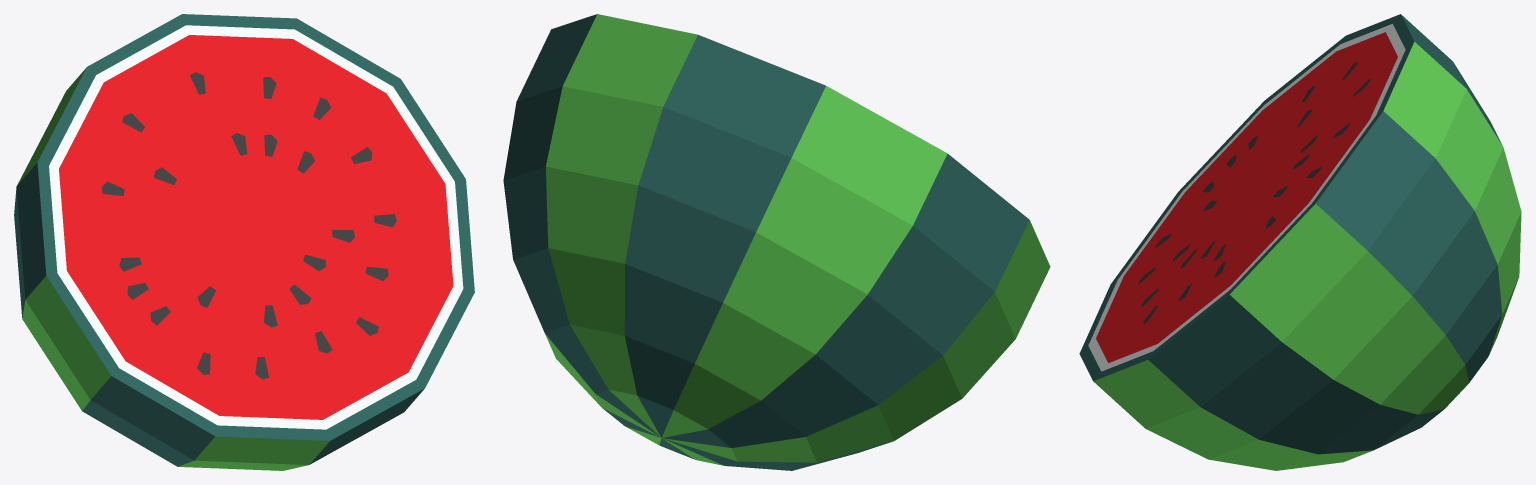
The model's file is watermelon-half.fbx.
3 views of the same model, side by side, from view 1: azimuth 30°, elevation 25°; view 2: azimuth 150°, elevation 25°; view 3: azimuth 270°, elevation 25° (orthographic). The views are drawn at different scales.
Parts seen in each view (by area): view 1: Sphere.063; view 2: Sphere.063; view 3: Sphere.063.
Part boxes in pixels (bbox=[...]): Sphere.063: bbox=[14, 14, 474, 470]; Sphere.063: bbox=[503, 14, 1050, 470]; Sphere.063: bbox=[1079, 14, 1521, 470].
Size of the model in its own units: 95.08 by 87.47 by 85.85.
